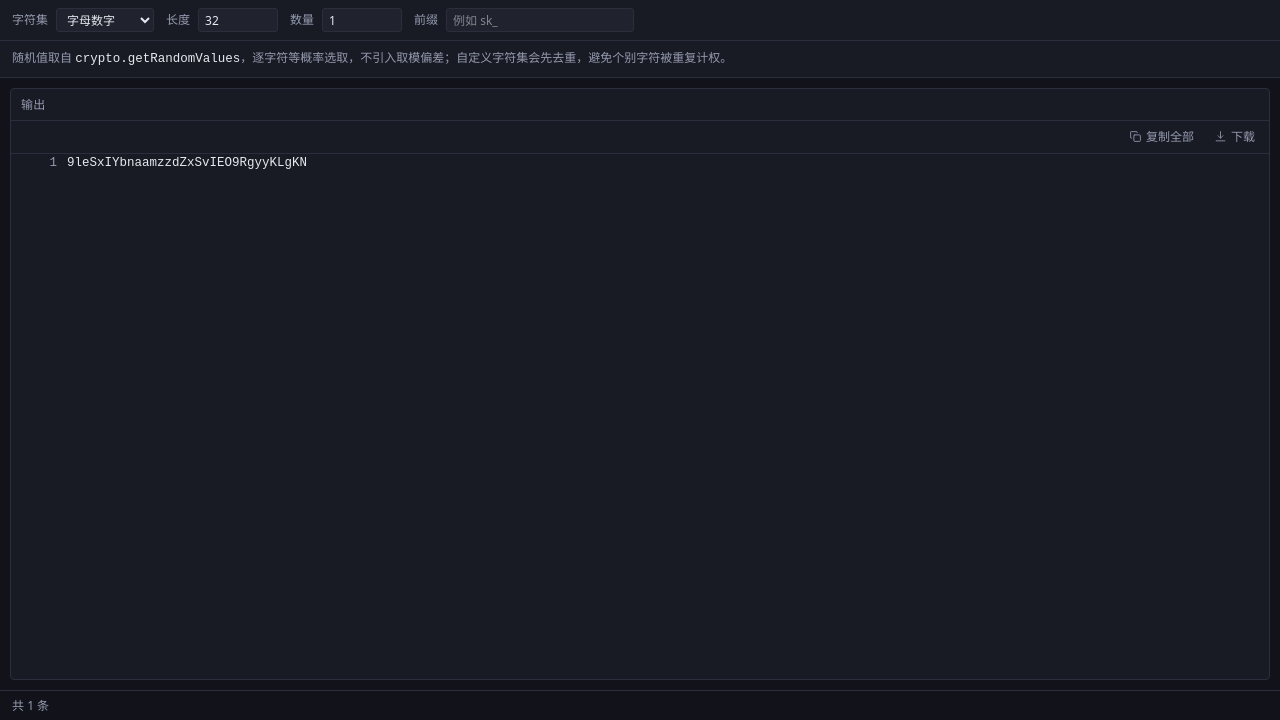
Token 生成器 › 字符集选自定义但内容为空时提示不可为空且不输出结果
Select "自定义" in the dropdown labelled "字符集" at coordinates (105, 20), box 56,8 -> 154,32
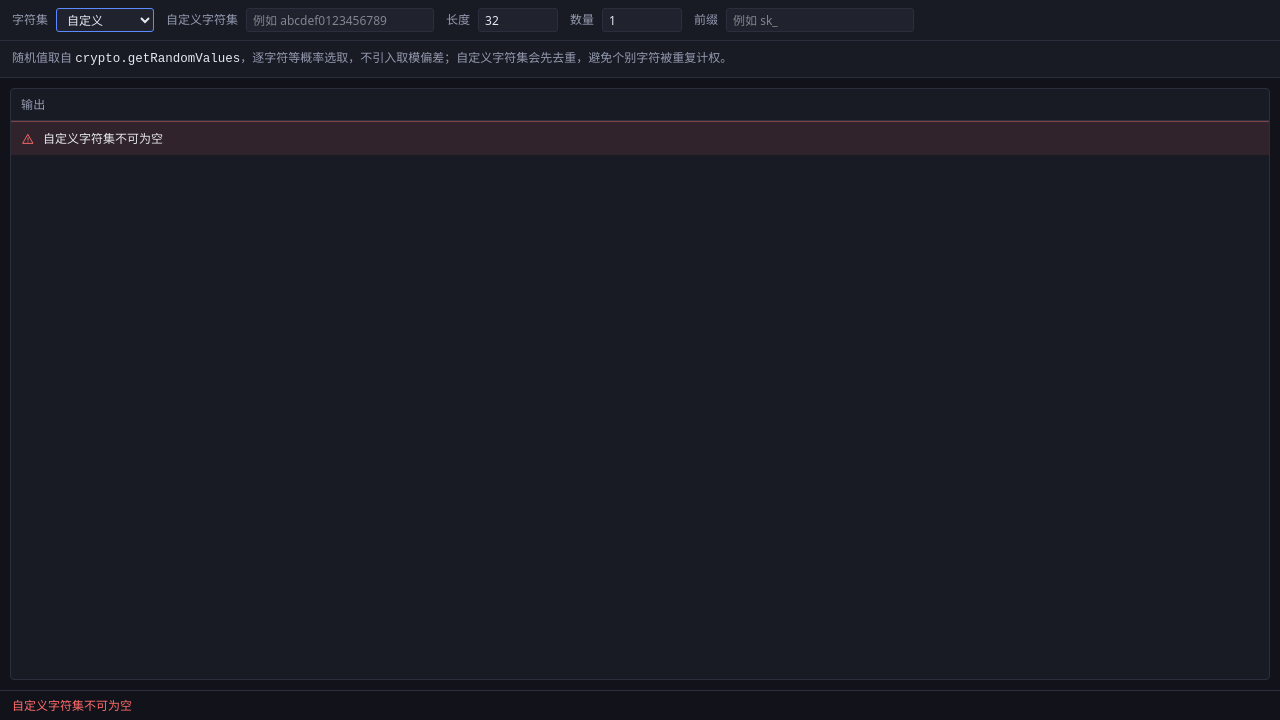
Check: the message reads "自定义字符集不可为空", box 43,130 -> 163,147
Check: no list items are shown
